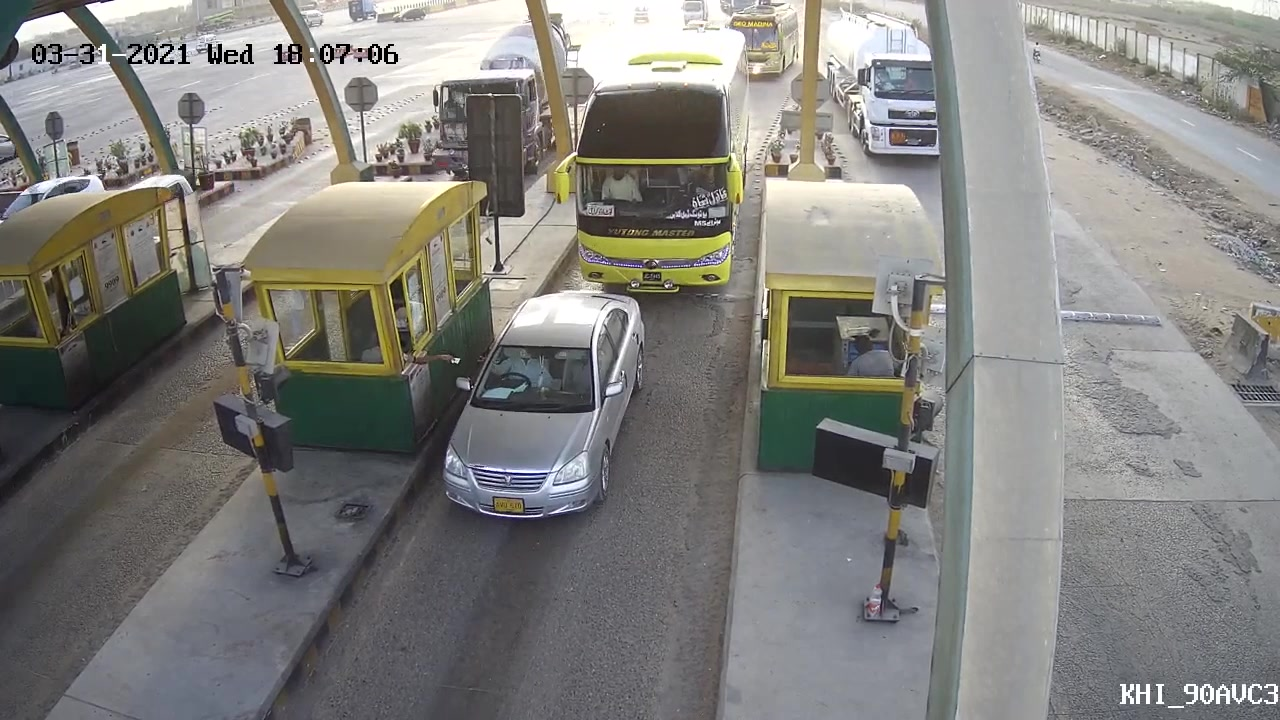F1: (427, 287, 654, 526)
F4: (559, 19, 761, 300)
